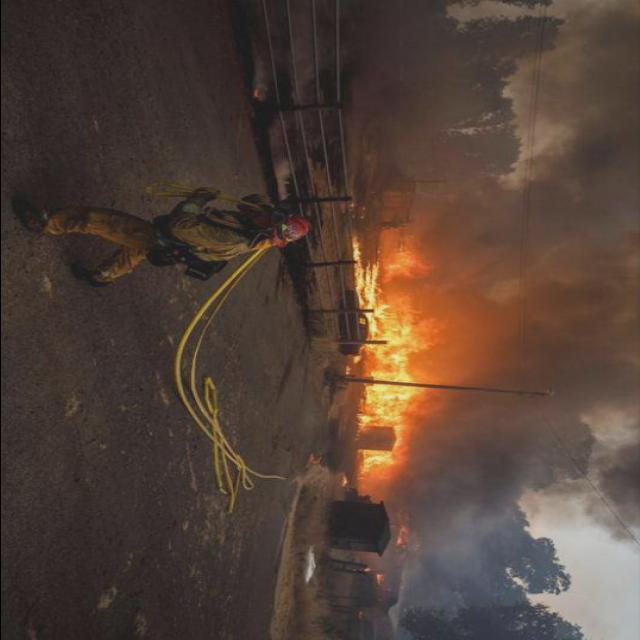Fire: (333, 222, 463, 502)
